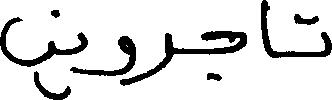X: (0, 5, 54, 99), (201, 26, 246, 85), (98, 31, 136, 90), (138, 28, 171, 85), (311, 11, 331, 61), (261, 0, 272, 62), (79, 27, 86, 78)
